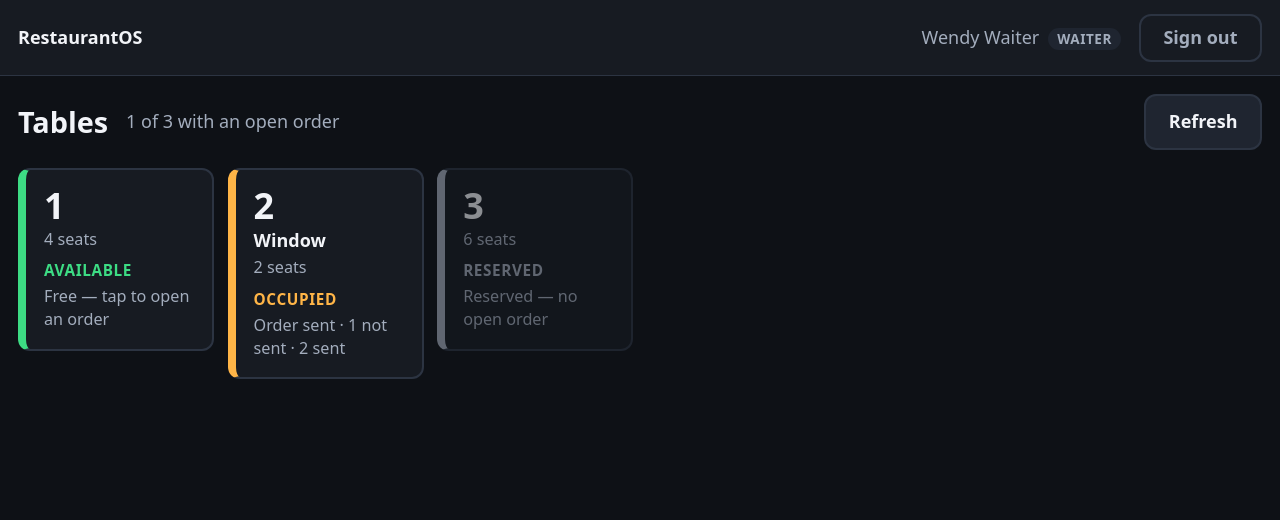
Test case: Order builder › keeps an order opened by another waiter read-only
Click the button with aria-label "Table 2, Window".
click(326, 274)  # box [228,168,424,379]
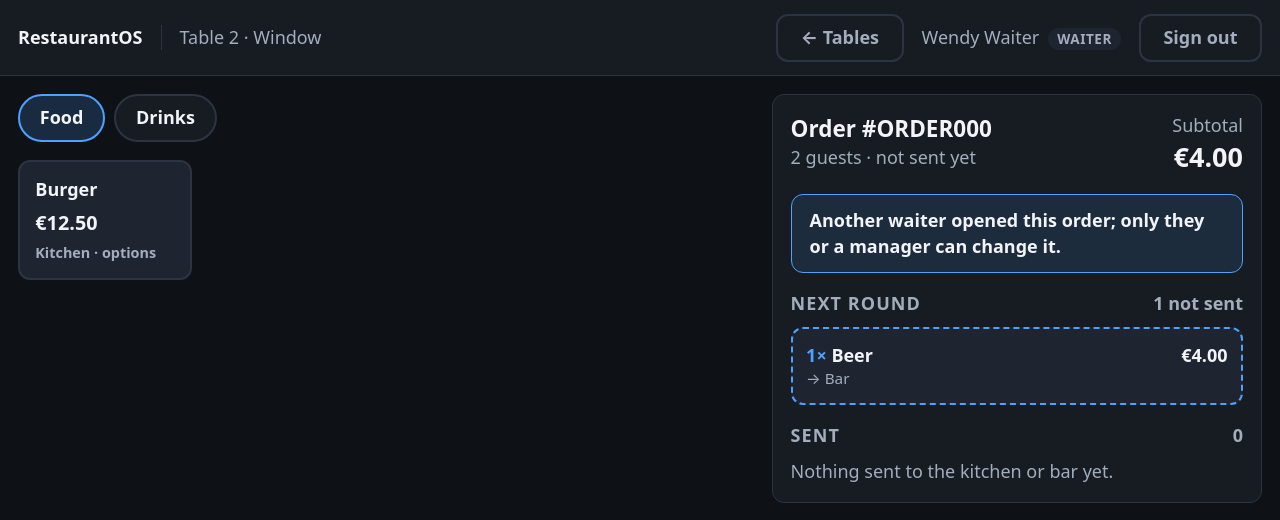
expect the text "Another waiter opened this order" is shown: met, box [810,208,1204,258]
Click the tab "Drinks".
click(165, 118)  # box [114,94,217,142]
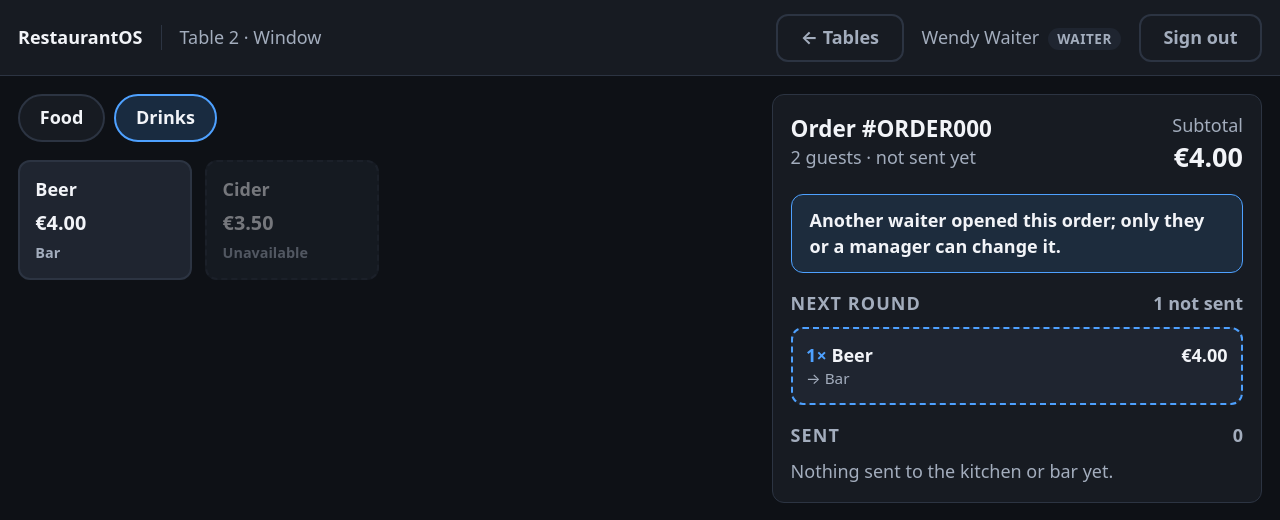
expect the button with aria-label "Beer," is disabled: met, box [18,160,192,280]
